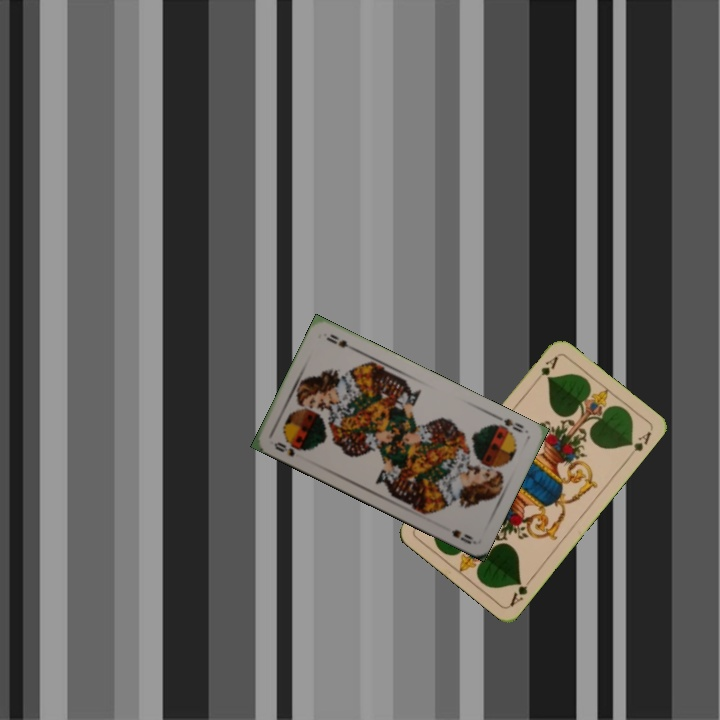GA: (530, 352, 561, 386), (506, 573, 535, 609)
SO: (489, 411, 530, 436), (270, 438, 308, 459)
